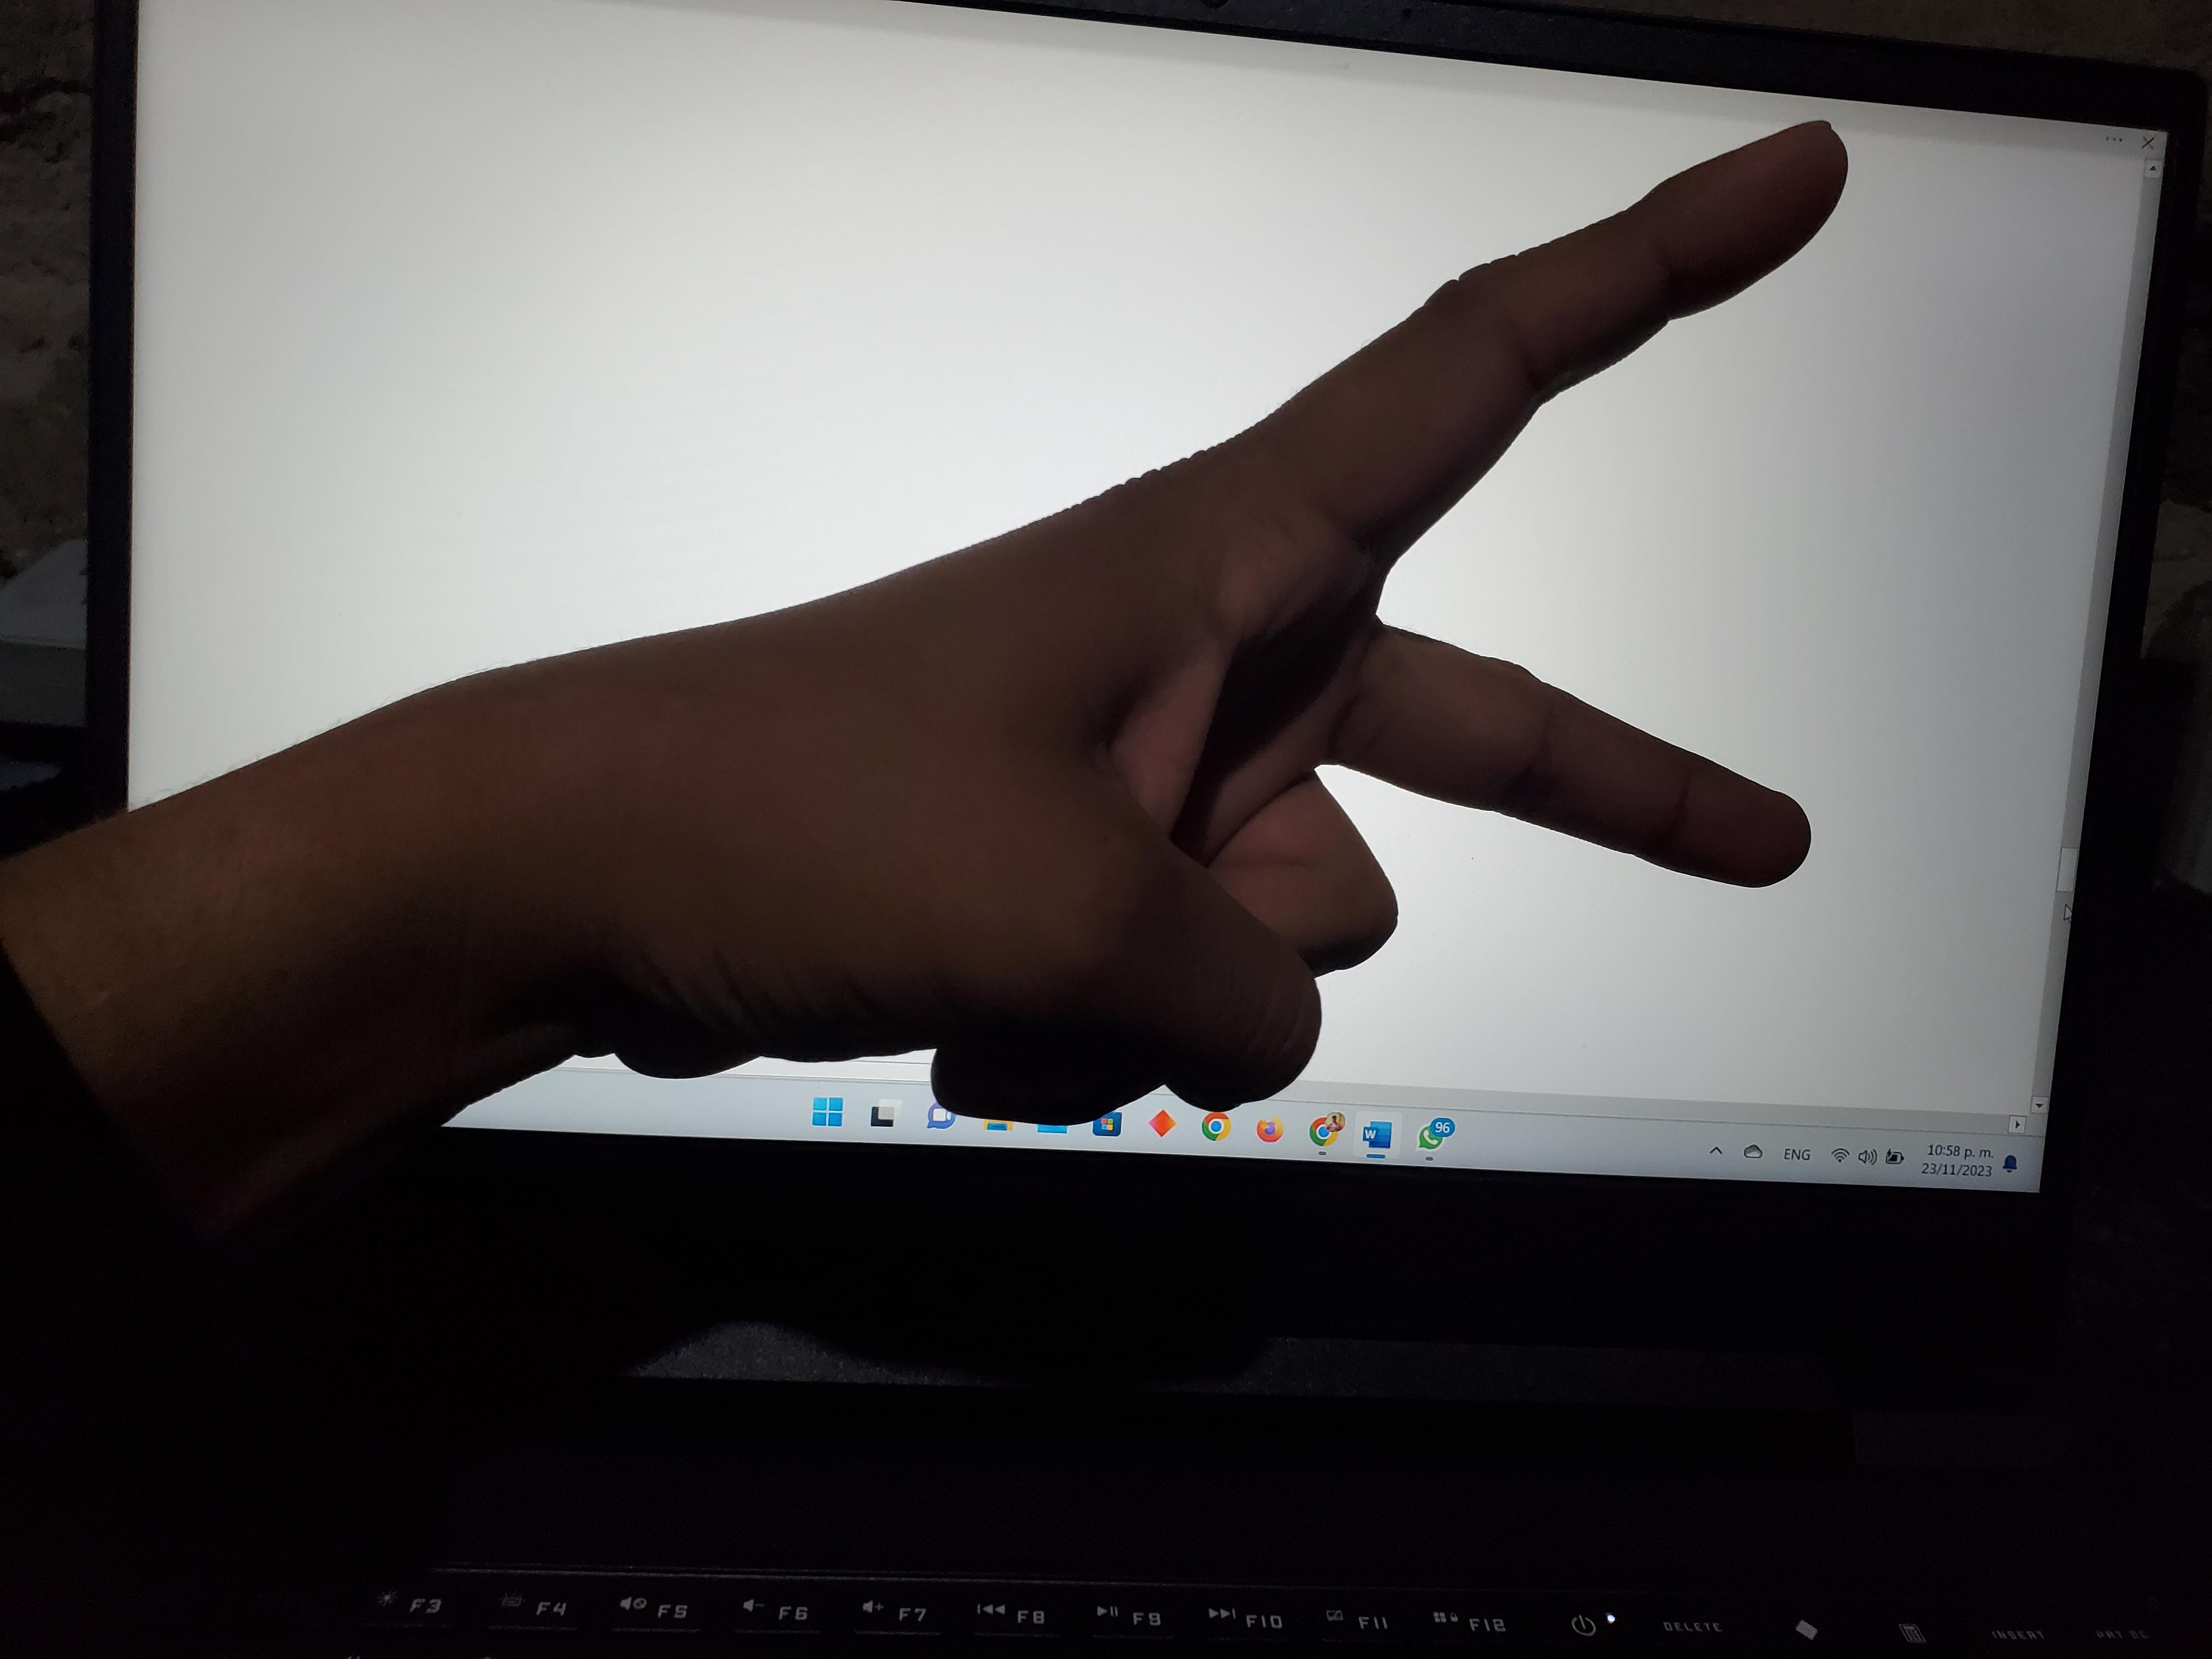Scissor: (45, 50, 2068, 1312)
